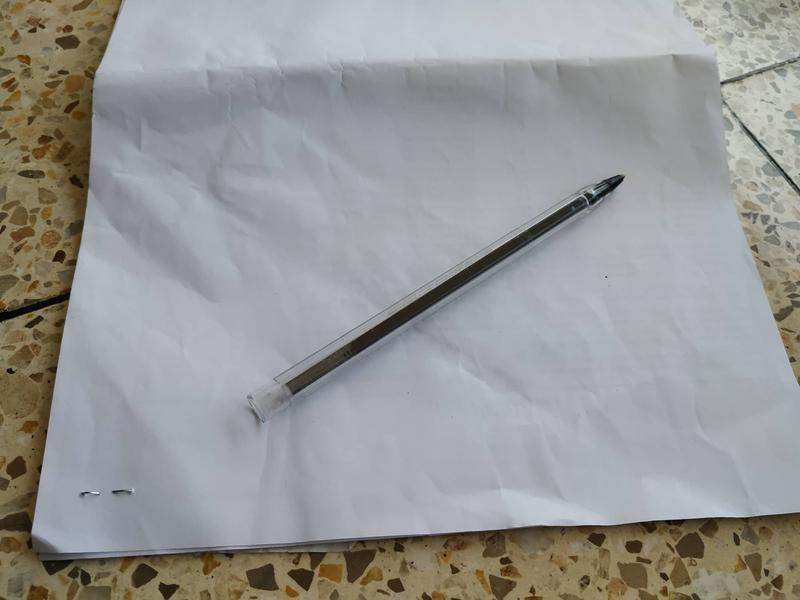qillqana: (232, 159, 635, 431)
